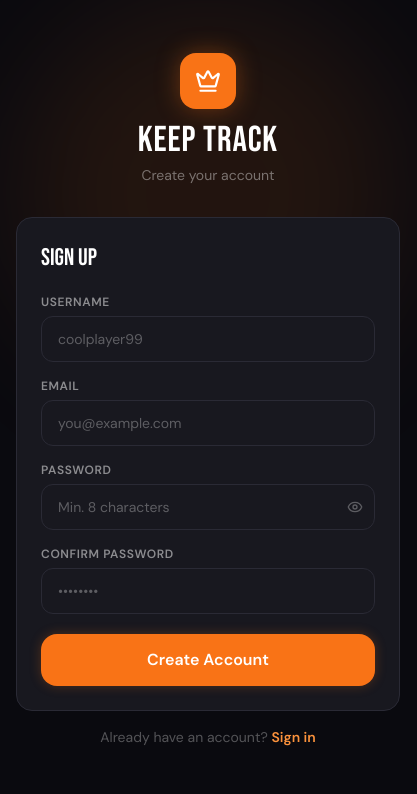
RegisterPage › shows validation error for mismatched passwords
Step 1. Type "testuser" into the field with placeholder "coolplayer99" → (208, 339), box top-left (41, 316), bottom-right (375, 362)
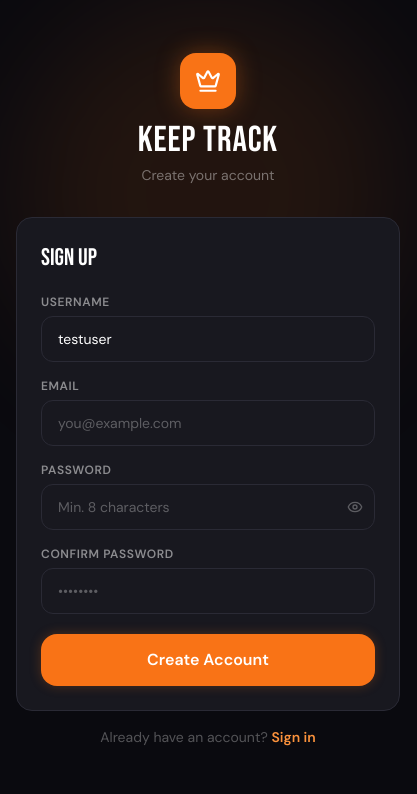
Step 2. Type "t@t.com" into the field with placeholder "you@example.com" → (208, 423), box top-left (41, 400), bottom-right (375, 446)
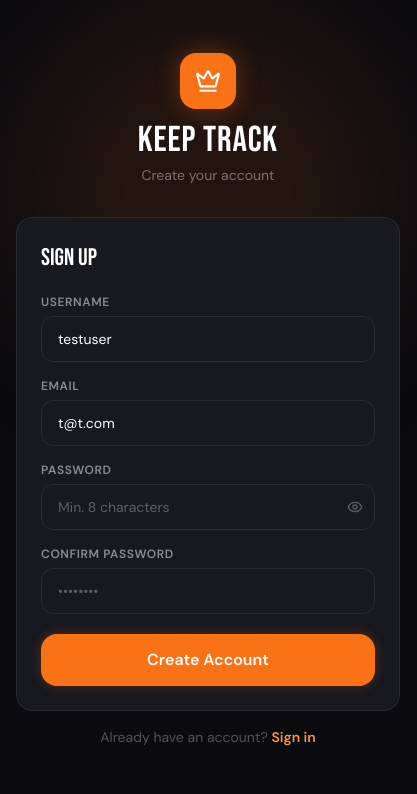
Step 3. Type "password1" into the password field with placeholder "Min. 8 characters" → (208, 507), box top-left (41, 484), bottom-right (375, 530)
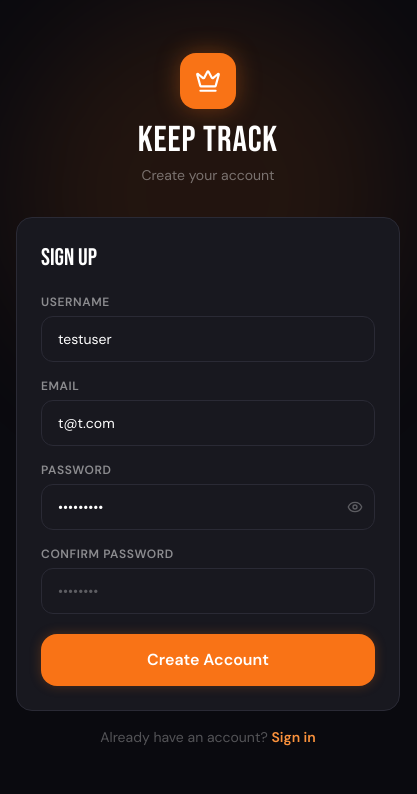
Note: Confirm field is second password field
Step 4. Type "different1" into the password field with placeholder "••••••••" → (208, 591), box top-left (41, 568), bottom-right (375, 614)
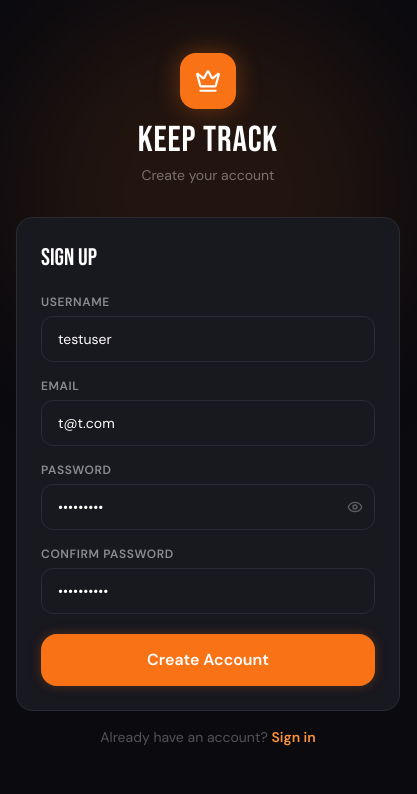
Step 5. Click the button "Create Account" → (208, 660), box top-left (41, 634), bottom-right (375, 686)
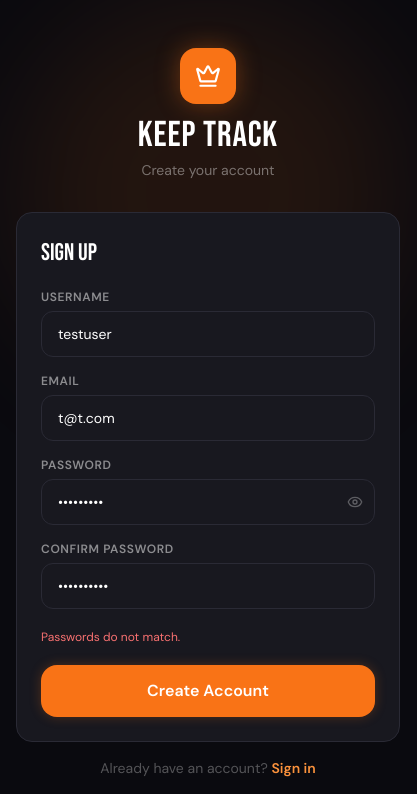
Check: the text "Passwords do not match." is shown, box top-left (41, 629), bottom-right (180, 645)
